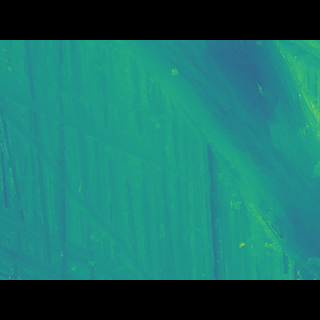Loch: (114, 67, 320, 249), (0, 109, 156, 250)
